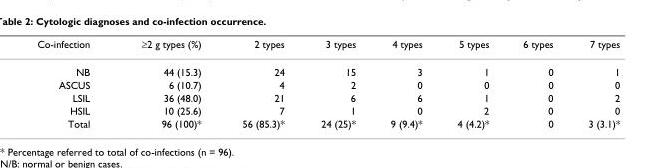table: (36, 36, 619, 129)
table column: (114, 36, 221, 129), (221, 36, 302, 129), (36, 36, 114, 129), (302, 36, 372, 129), (372, 36, 439, 129), (439, 36, 505, 129), (505, 36, 569, 129), (569, 36, 619, 129)
table column header: (36, 36, 619, 57)
table row: (36, 36, 619, 57), (36, 57, 619, 78), (36, 78, 619, 91), (36, 103, 619, 116), (36, 116, 619, 129), (36, 91, 619, 103)
